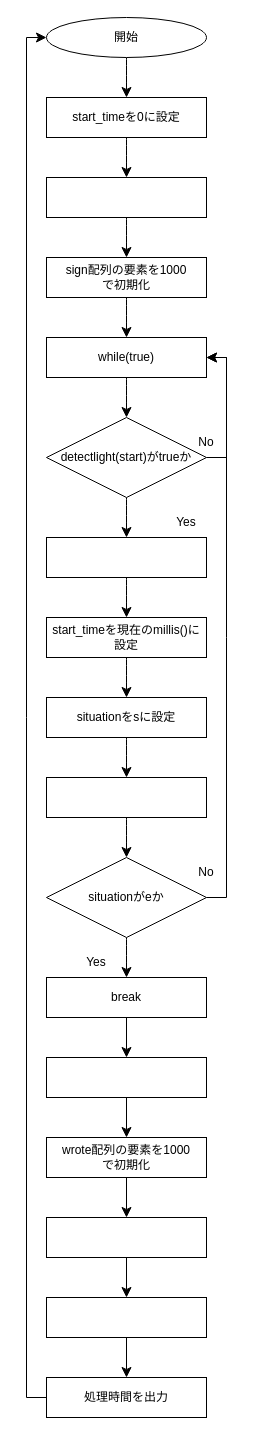
This 254x1435 diagram has some shape labels left out. The shapes that lost their labels are listed below. From the top down, each one's centre as x and y in pixels, then its label:
point (126, 197): メッセージ出力: "flash"
point (126, 557): メッセージ出力: "開始信号を検知！"
point (126, 797): flash()を呼び出し
point (126, 1077): メッセージ出力: "plot"
point (126, 1237): reset_servo()を呼び出し
point (126, 1317): plot()を呼び出し
